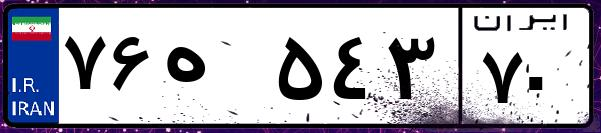0: (525, 38, 570, 115)
3: (385, 28, 445, 110)
4: (330, 28, 385, 110)
5: (270, 28, 330, 110)
6: (110, 28, 158, 98)
7: (57, 26, 110, 100), (475, 38, 525, 113)
ه: (158, 20, 270, 120)
